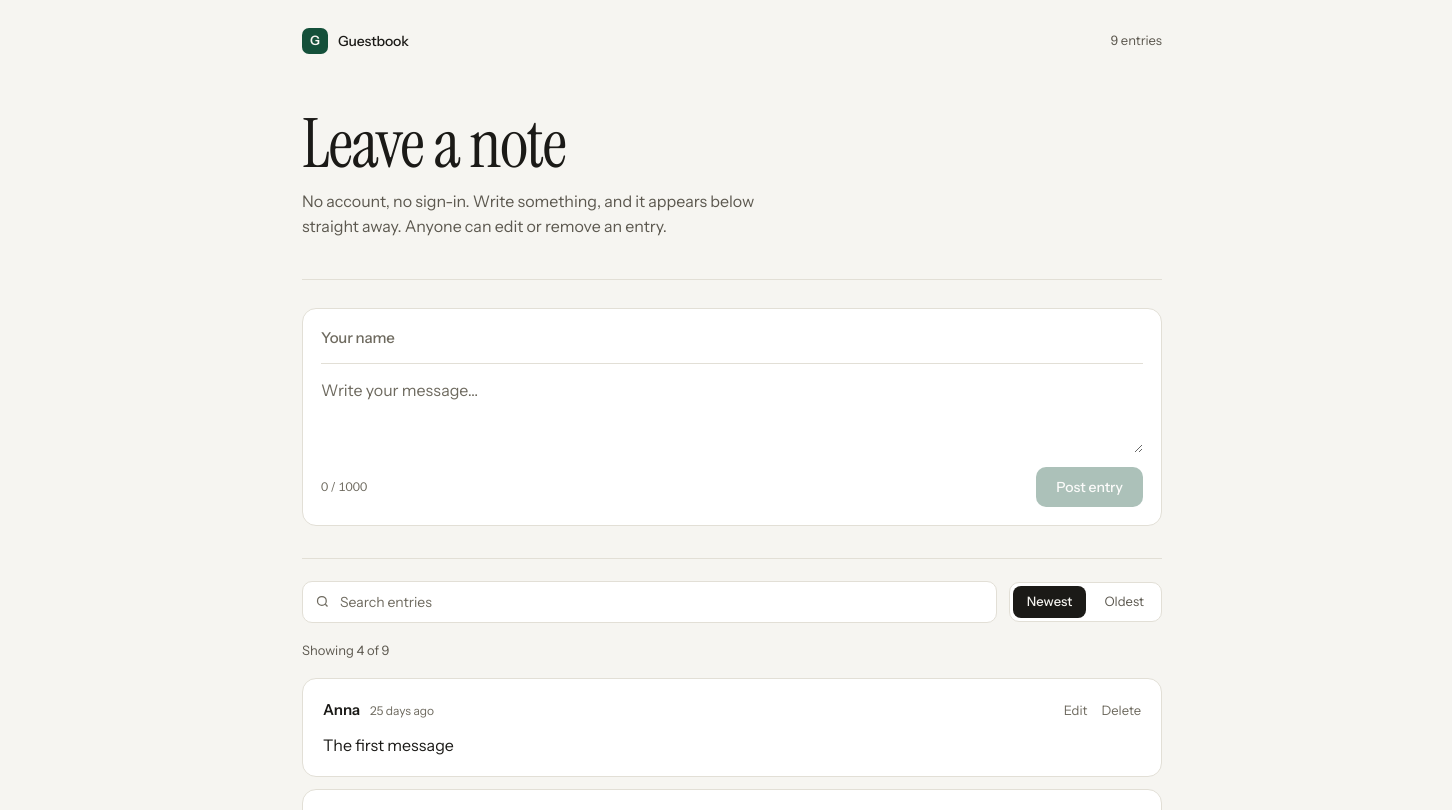
it: the question lives in the address › writes the phrase, the order and the page size into it
The image size is (1452, 810).
Expected: the text "The first message" is shown, [323,735,454,755]
In the search field labelled "Search entries": x=662, y=602 [340,592,984,612], type "Message"
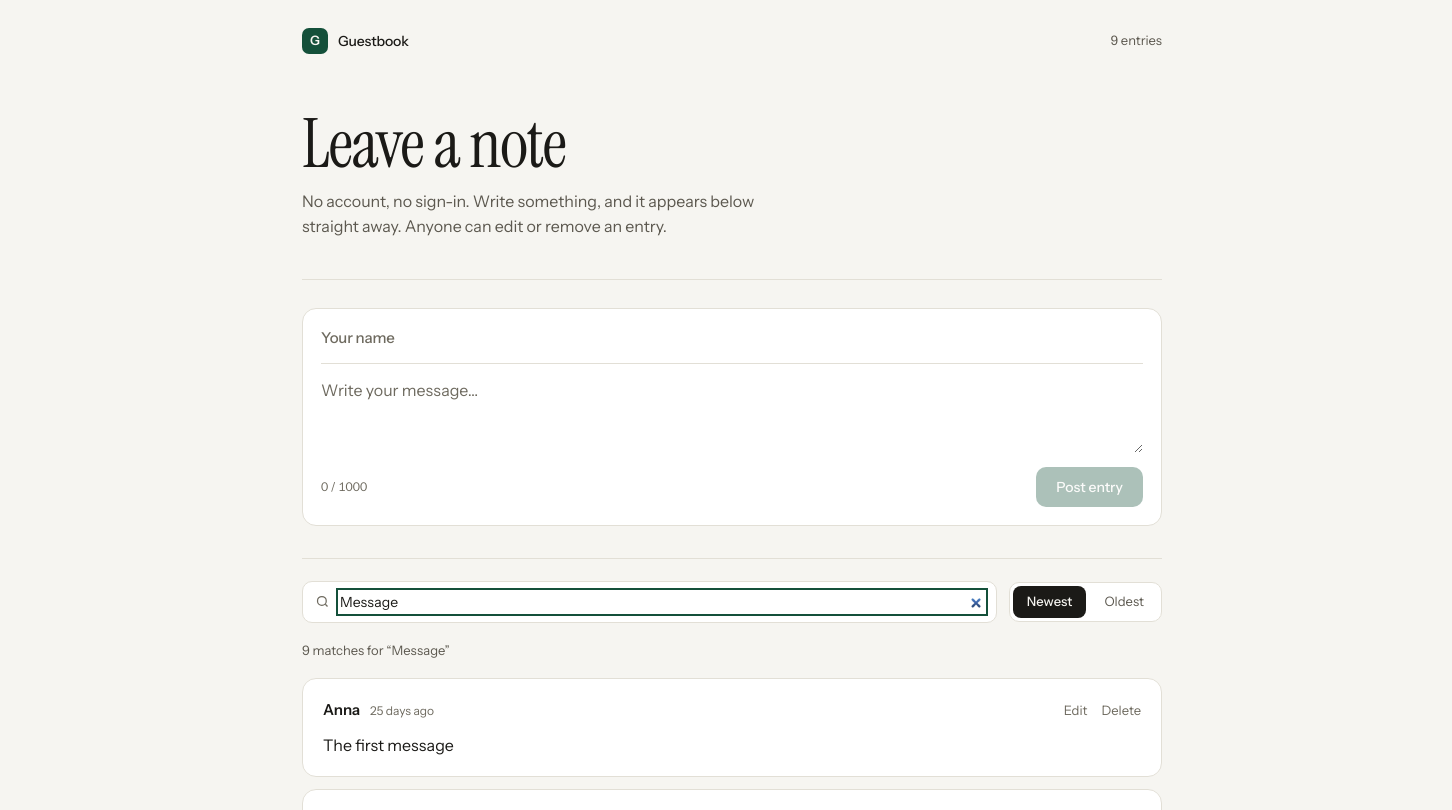
Click the button "Oldest": x=1124, y=602 [1090,586,1158,618]
(page scrolled)
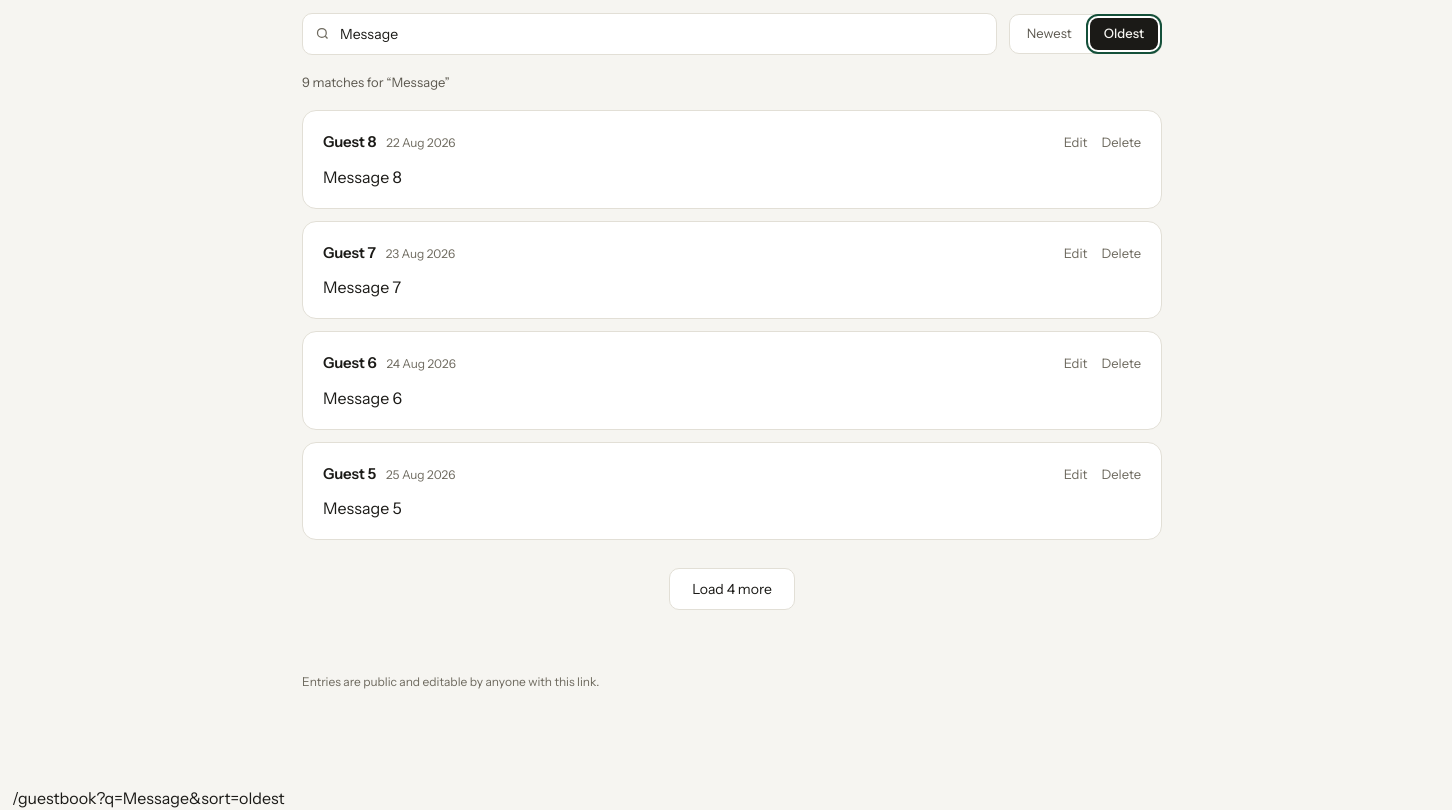
Now the text with test id "address" shows "sort=oldest", box [12,788,285,808]
Click the button "Load 4 more": x=732, y=589 [669,568,795,610]
(page scrolled)
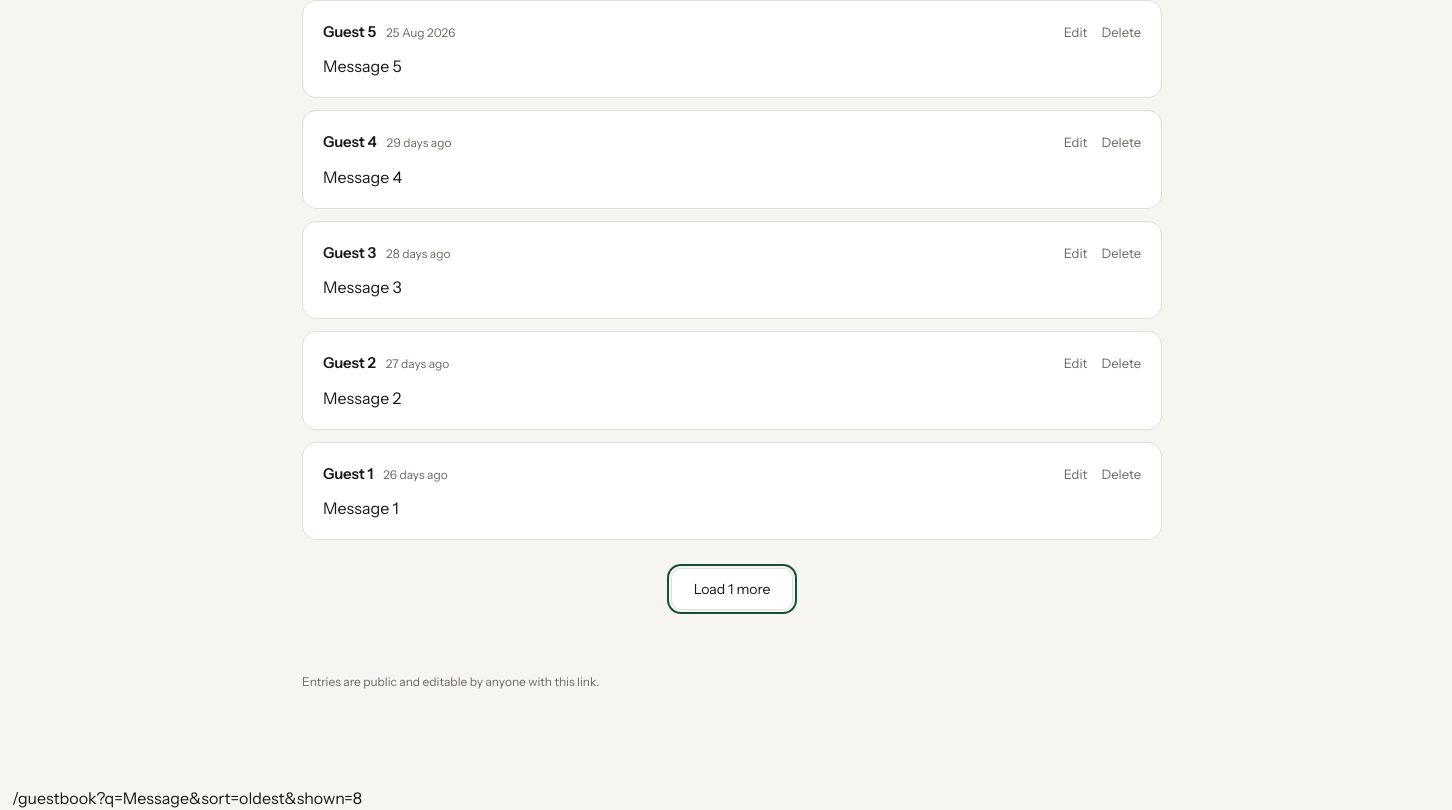
Now the text with test id "address" shows "shown=8", box [12,788,362,808]
